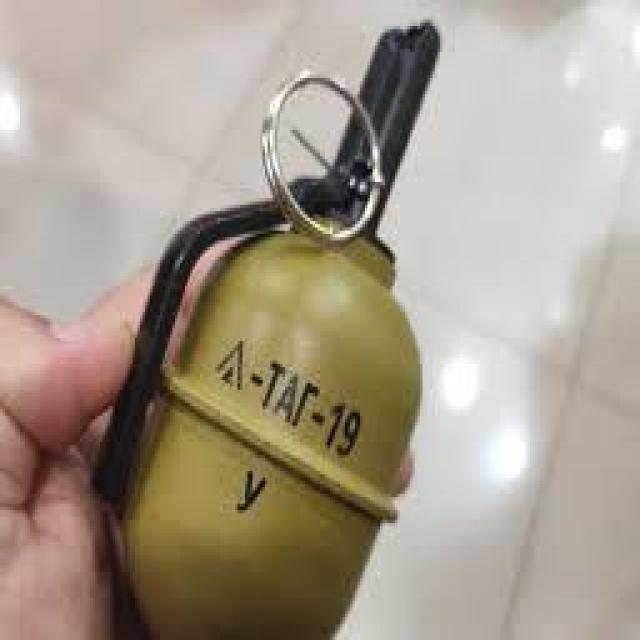grenade: (89, 16, 471, 640)
